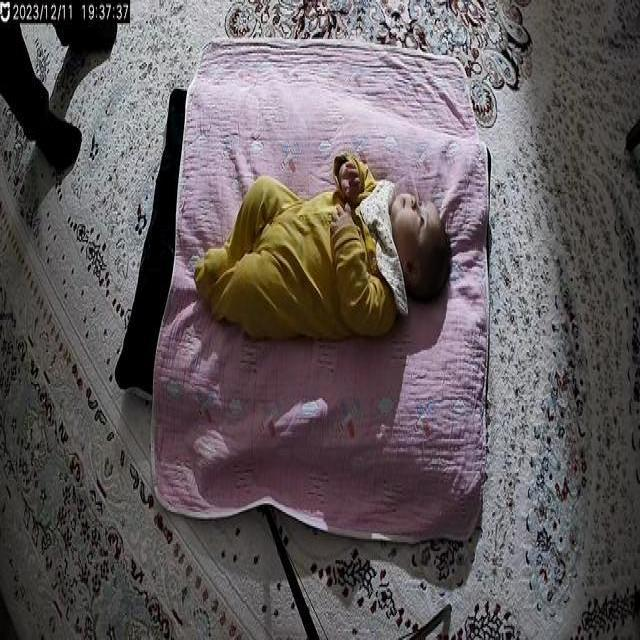baby: (193, 149, 451, 344)
